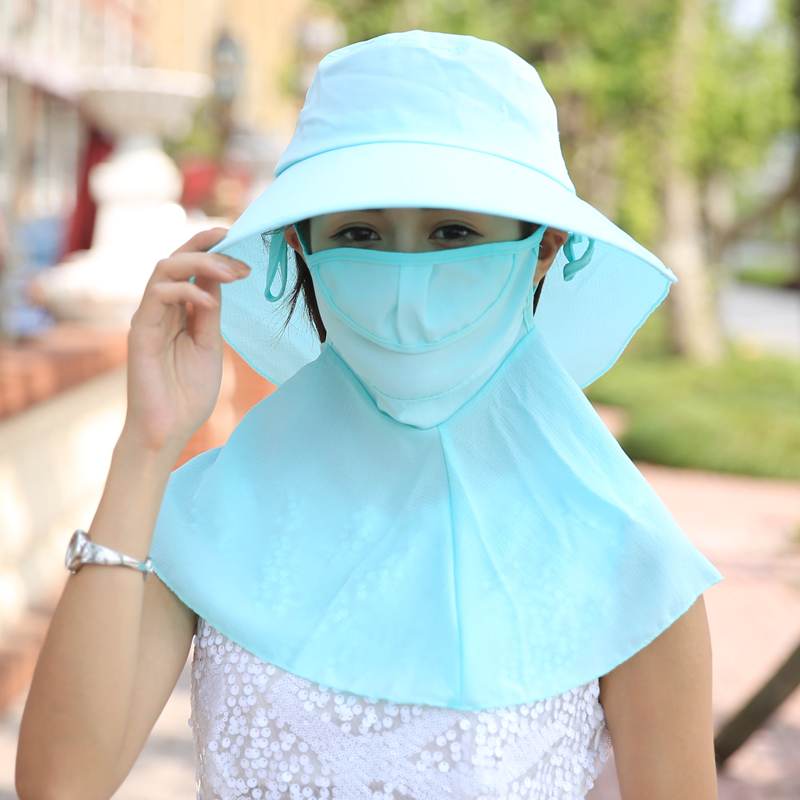face_mask: (313, 178, 535, 426)
